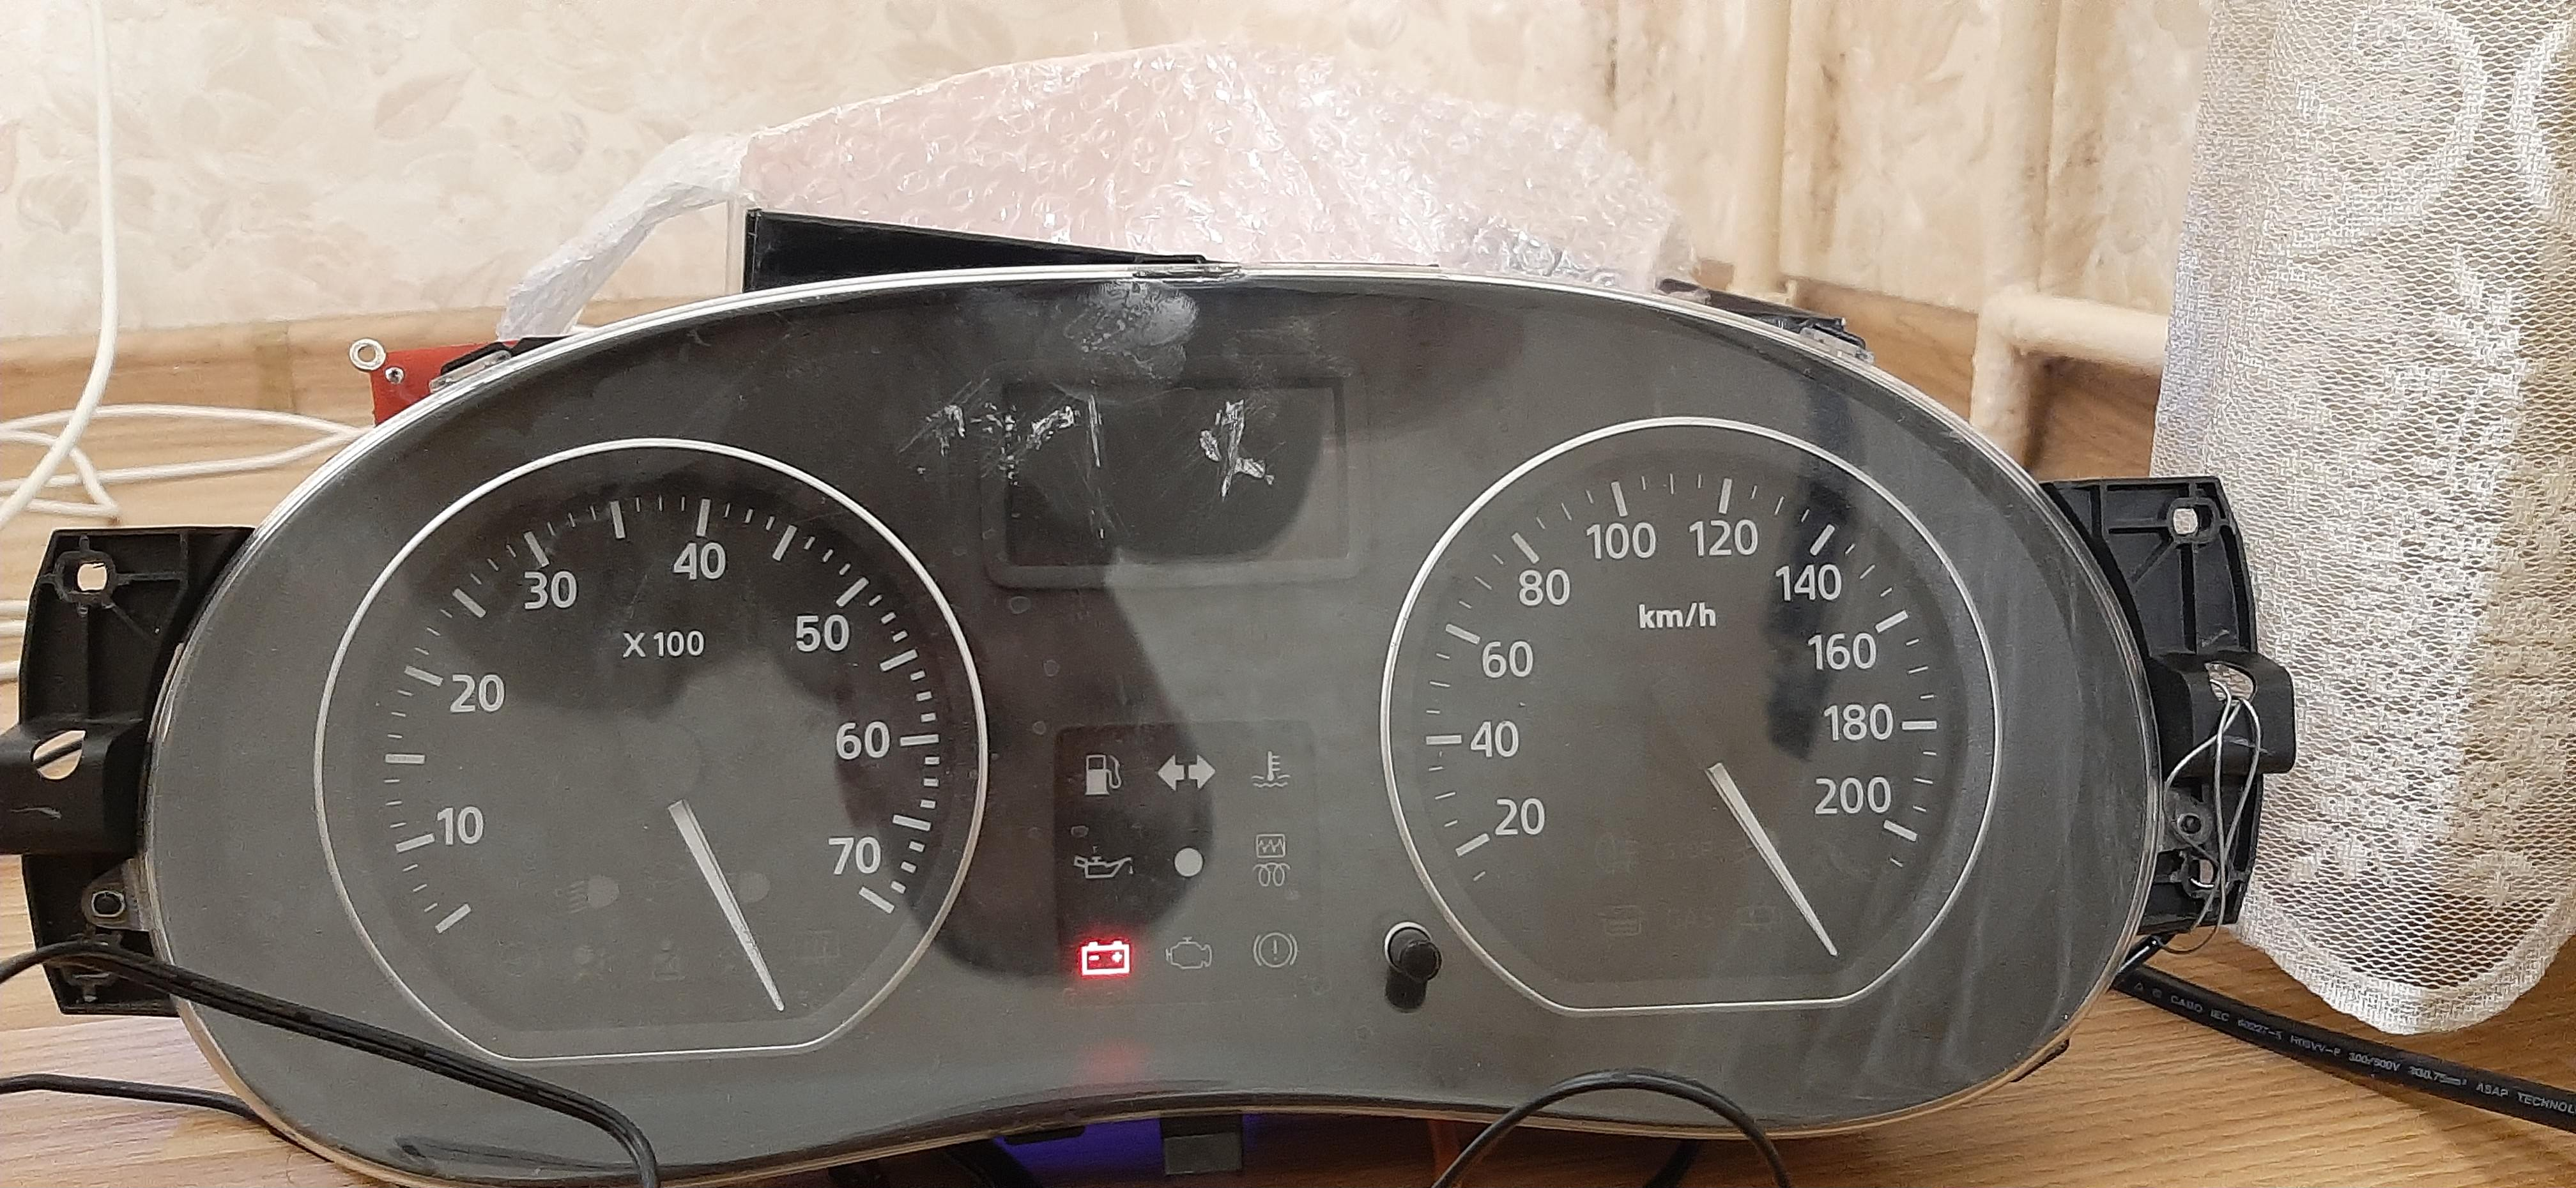accomulator6: (1076, 937, 1134, 978)
